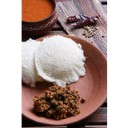idly: (34, 36, 85, 82), (22, 38, 45, 86)
